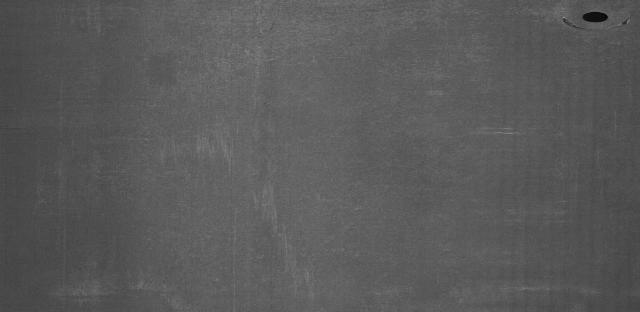punching_hole: (579, 7, 610, 26)
